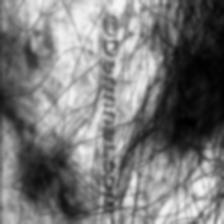Non-Cancerous Skin Condition: (168, 52, 224, 153), (18, 148, 78, 220)
